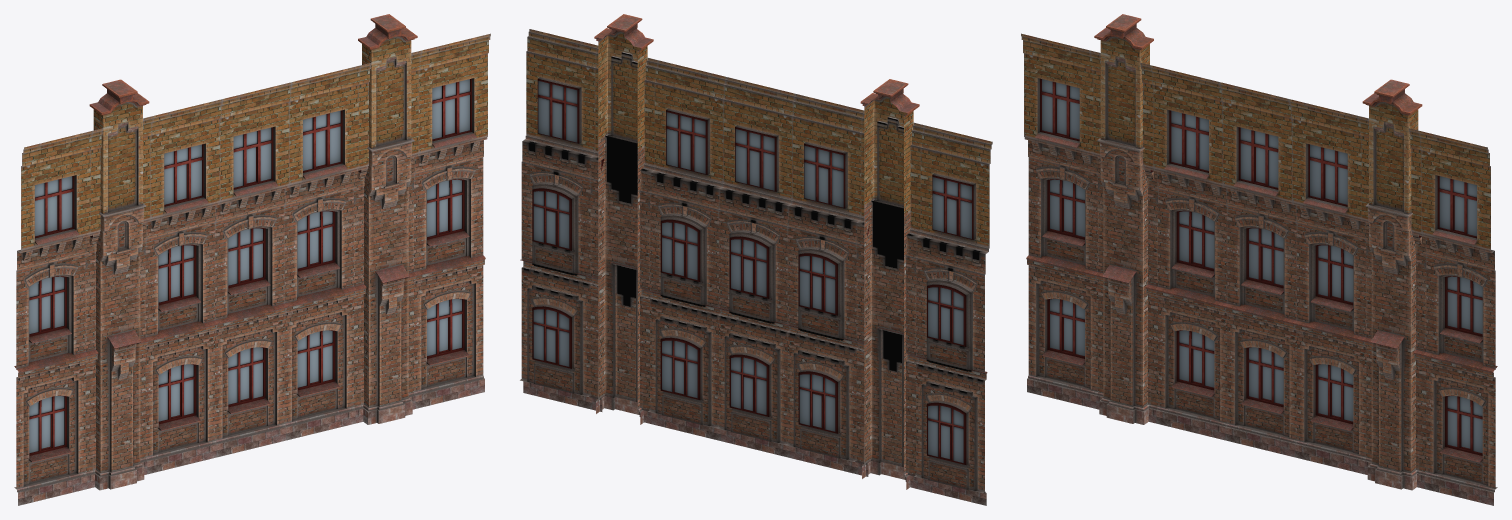
The model's file is modular_house_wall.glb.
3 renders of one model, left to right at view 1: azimuth 30°, elevation 25°; view 2: azimuth 150°, elevation 25°; view 3: azimuth 330°, elevation 25°, orthographic.
Visible parts, largest first — view 1: Box045_Material #2_0, Box040_Material #2_0, Plane017_Material #2_0, Plane008_Material #2_0, Plane001_Material #2_0, Plane014_Material #2_0, Plane011_Material #2_0, Plane009_Material #2_0, Plane018_Material #2_0, Plane012_Material #2_0, Plane004_Material #2_0, Plane015_Material #2_0 (+10 smaller); view 2: Box045_Material #2_0, Box040_Material #2_0, Plane015_Material #2_0, Plane004_Material #2_0, Plane018_Material #2_0, Plane012_Material #2_0, Plane009_Material #2_0, Plane014_Material #2_0, Plane001_Material #2_0, Plane017_Material #2_0, Plane008_Material #2_0, Plane011_Material #2_0 (+10 smaller); view 3: Box040_Material #2_0, Box045_Material #2_0, Plane014_Material #2_0, Plane011_Material #2_0, Plane008_Material #2_0, Plane017_Material #2_0, Plane001_Material #2_0, Plane009_Material #2_0, Plane015_Material #2_0, Plane012_Material #2_0, Plane004_Material #2_0, Plane018_Material #2_0 (+10 smaller).
Part boxes in pixels (x1=…): Box045_Material #2_0: x1=85, y1=79, x2=153, y2=490; Box040_Material #2_0: x1=354, y1=14, x2=421, y2=424; Plane017_Material #2_0: x1=14, y1=352, x2=87, y2=488; Plane008_Material #2_0: x1=215, y1=303, x2=286, y2=440; Plane001_Material #2_0: x1=145, y1=320, x2=217, y2=457; Plane014_Material #2_0: x1=414, y1=255, x2=485, y2=391; Plane011_Material #2_0: x1=284, y1=286, x2=356, y2=423; Plane009_Material #2_0: x1=215, y1=184, x2=289, y2=320; Plane018_Material #2_0: x1=16, y1=232, x2=90, y2=369; Plane012_Material #2_0: x1=284, y1=167, x2=358, y2=303; Plane004_Material #2_0: x1=145, y1=201, x2=219, y2=337; Plane015_Material #2_0: x1=414, y1=135, x2=487, y2=271; Box045_Material #2_0: x1=856, y1=79, x2=923, y2=489; Box040_Material #2_0: x1=590, y1=14, x2=657, y2=424; Plane015_Material #2_0: x1=521, y1=134, x2=595, y2=277; Plane004_Material #2_0: x1=787, y1=199, x2=861, y2=342; Plane018_Material #2_0: x1=916, y1=230, x2=989, y2=373; Plane012_Material #2_0: x1=650, y1=165, x2=723, y2=307; Plane009_Material #2_0: x1=719, y1=182, x2=792, y2=324; Plane014_Material #2_0: x1=520, y1=259, x2=592, y2=395; Plane001_Material #2_0: x1=786, y1=324, x2=858, y2=460; Plane017_Material #2_0: x1=914, y1=355, x2=987, y2=491; Plane008_Material #2_0: x1=717, y1=307, x2=789, y2=443; Plane011_Material #2_0: x1=648, y1=291, x2=720, y2=426; Box040_Material #2_0: x1=1358, y1=79, x2=1426, y2=490; Box045_Material #2_0: x1=1090, y1=14, x2=1157, y2=424; Plane014_Material #2_0: x1=1424, y1=352, x2=1497, y2=488; Plane011_Material #2_0: x1=1294, y1=320, x2=1366, y2=457; Plane008_Material #2_0: x1=1225, y1=303, x2=1296, y2=440; Plane017_Material #2_0: x1=1026, y1=255, x2=1097, y2=391; Plane001_Material #2_0: x1=1155, y1=286, x2=1227, y2=423; Plane009_Material #2_0: x1=1222, y1=184, x2=1296, y2=320; Plane015_Material #2_0: x1=1421, y1=232, x2=1495, y2=369; Plane012_Material #2_0: x1=1292, y1=201, x2=1366, y2=337; Plane004_Material #2_0: x1=1153, y1=167, x2=1227, y2=303; Plane018_Material #2_0: x1=1024, y1=135, x2=1097, y2=271.
Bounding box in the file's own units: 9.42 × 7.63 × 0.6239.
1 material, 1 textured.
